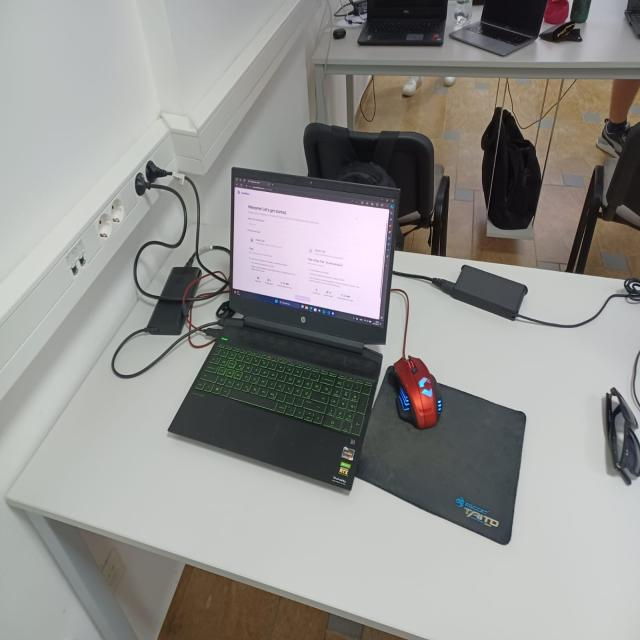Laptops_bbox: (162, 115, 419, 522)
